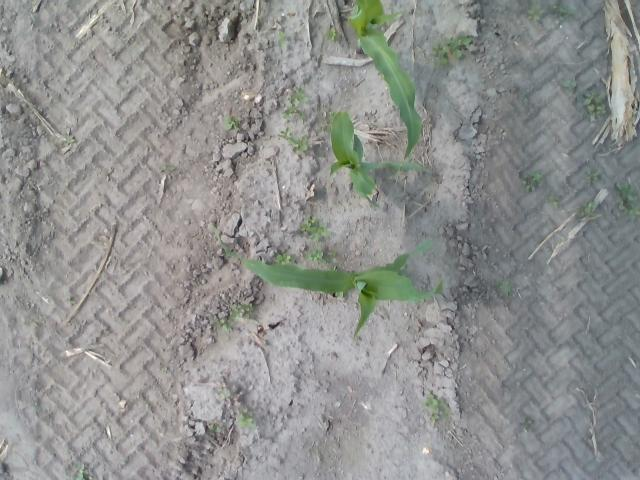Maize: (209, 222, 444, 341), (351, 0, 424, 159), (328, 110, 431, 207)
Weeds: (429, 34, 472, 72), (281, 86, 308, 122), (422, 393, 452, 424), (300, 215, 331, 243), (582, 91, 608, 121), (617, 200, 640, 222), (520, 172, 544, 192), (576, 200, 601, 219), (548, 4, 574, 22), (524, 0, 545, 21), (615, 182, 637, 202), (305, 245, 327, 264), (230, 304, 253, 322), (236, 408, 256, 428), (493, 278, 512, 298), (558, 76, 576, 97), (68, 462, 88, 480), (320, 108, 334, 133), (223, 114, 241, 132), (272, 252, 295, 266), (212, 317, 233, 332), (290, 135, 308, 152), (584, 168, 600, 185), (325, 26, 341, 42), (277, 30, 287, 48), (277, 127, 290, 140), (550, 195, 562, 209), (208, 424, 223, 434), (216, 389, 228, 398), (328, 265, 341, 272), (160, 165, 175, 171), (155, 364, 166, 372), (66, 136, 76, 144), (335, 291, 348, 297), (328, 250, 337, 258), (66, 299, 76, 306)
